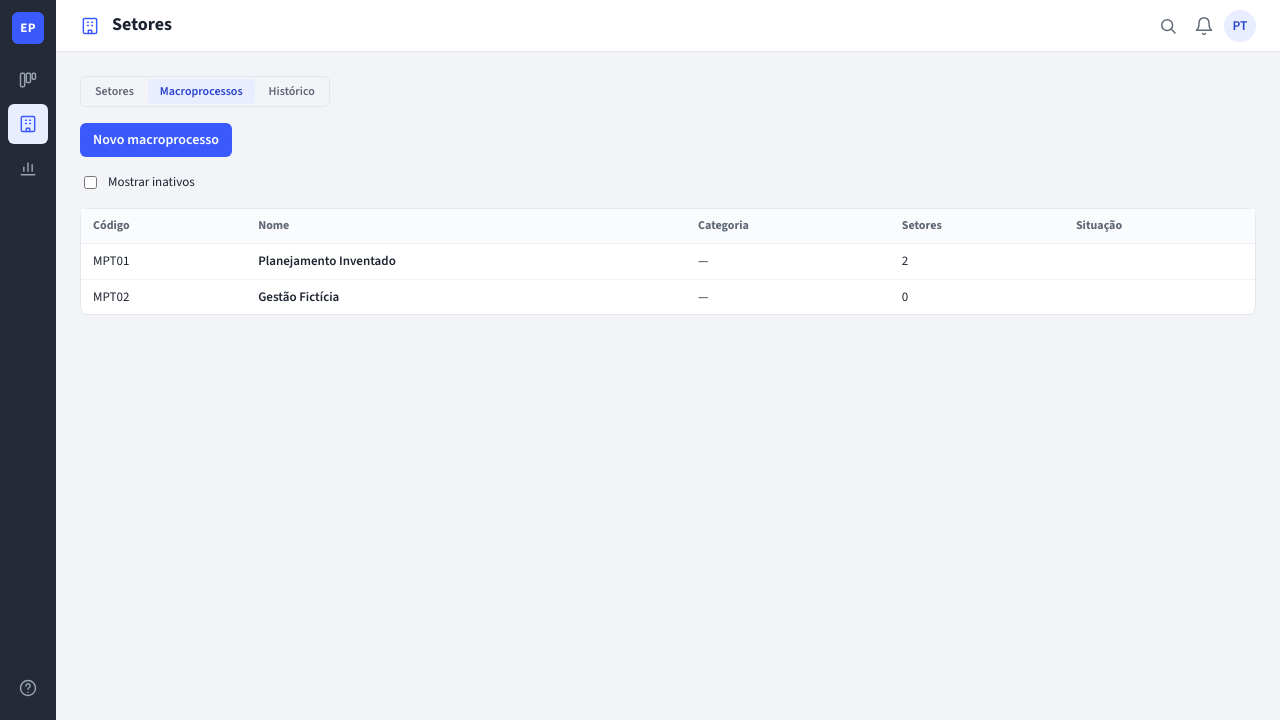
Test case: [Pôr setor] só habilita depois de escolher um setor
The width and height of the screenshot is (1280, 720).
Click the cell "Planejamento Inventado" at coordinates (466, 262), box [246,244,686,280]
(page scrolled)
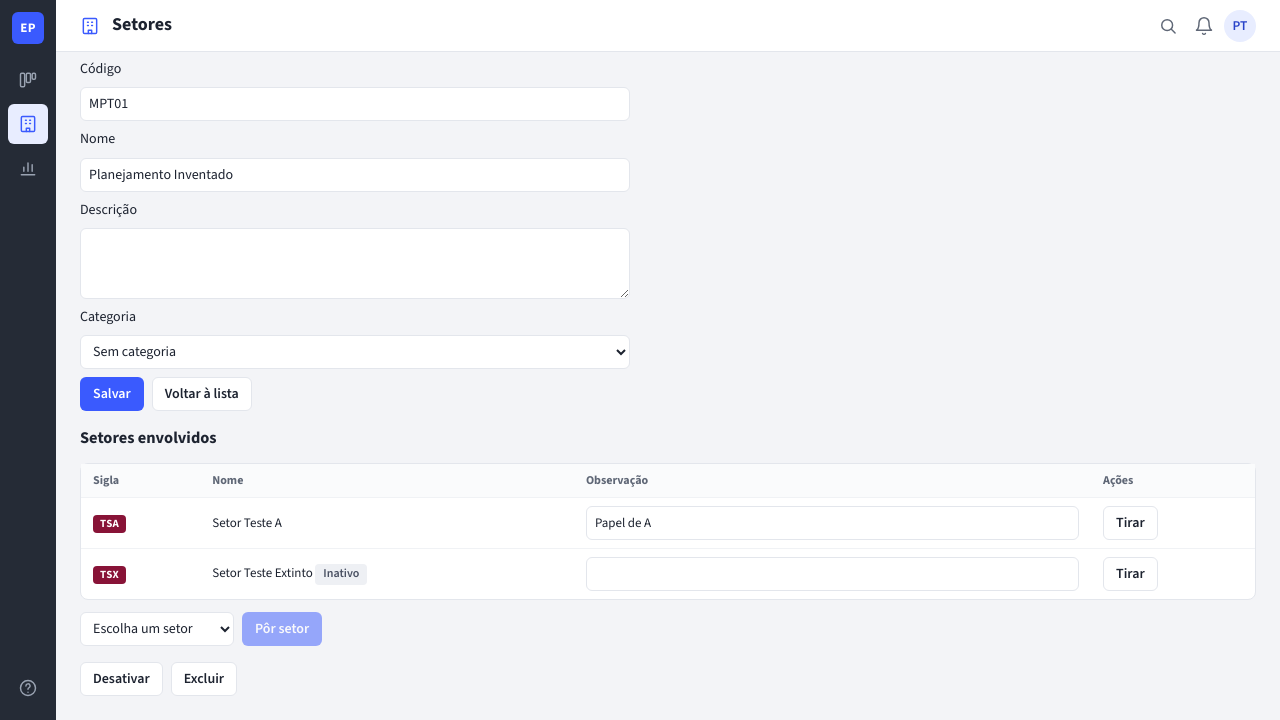
Check: the button "Pôr setor" is disabled, box [242,612,322,646]
Select "TSB — Setor Teste B" in the dropdown named "Setor a pôr" at coordinates (157, 629), box [80,612,234,646]
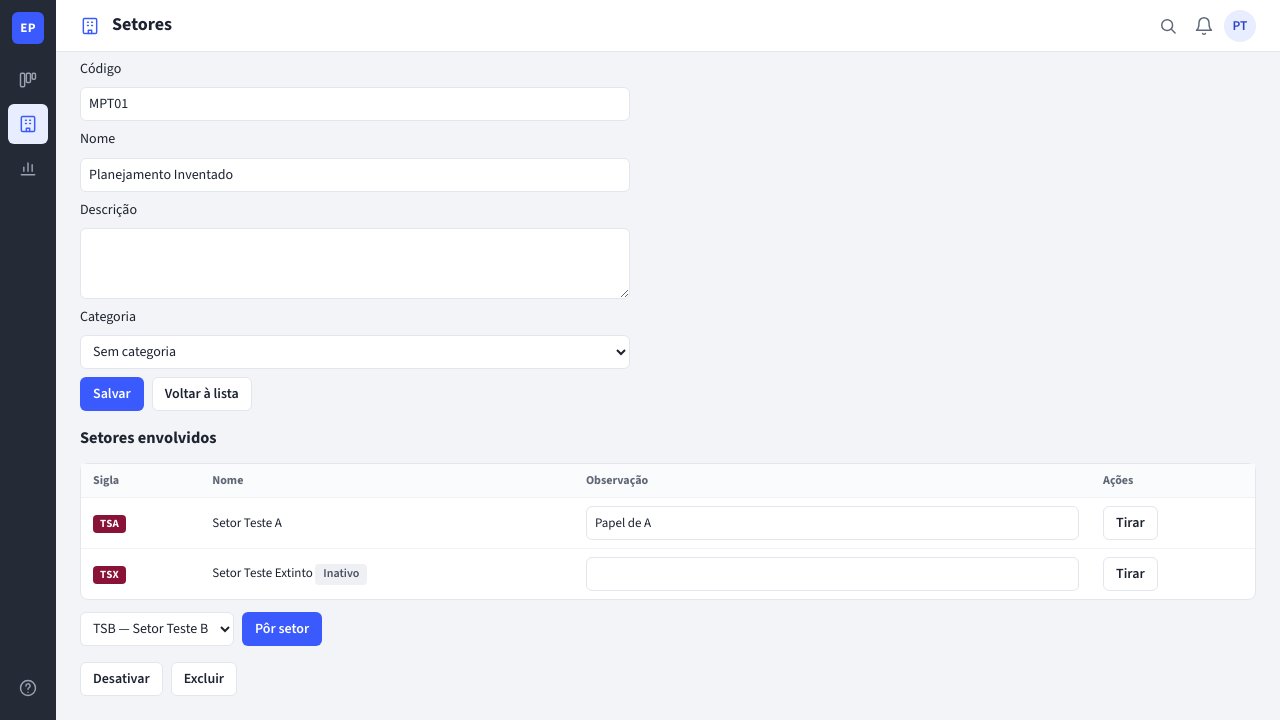
Check: the button "Pôr setor" is enabled, box [242,612,322,646]
